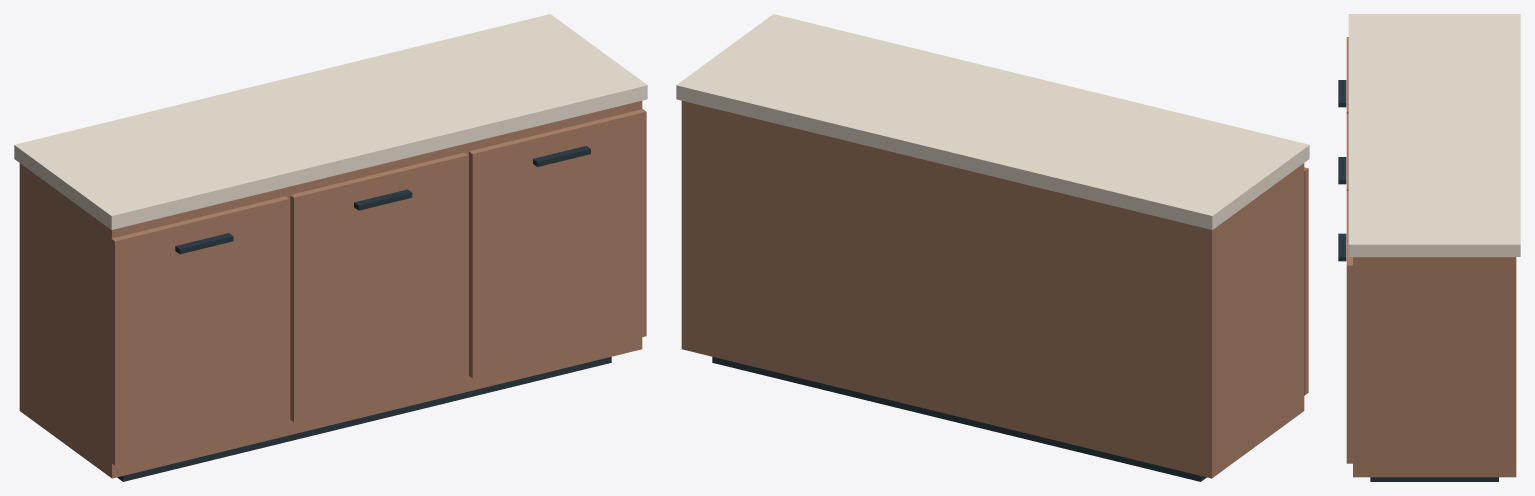
Rendered from kitchen-counter.glb.
The picture shows the model from 3 angles, left to right: view 1: azimuth 30°, elevation 25°; view 2: azimuth 150°, elevation 25°; view 3: azimuth 270°, elevation 25°; orthographic projection. The views are drawn at different scales.
Parts seen in each view (by area): view 1: poc-kitchen-counter-part-80, poc-kitchen-counter-part-81, poc-kitchen-counter-part-85, poc-kitchen-counter-part-83, poc-kitchen-counter-part-79, poc-kitchen-counter-part-87; view 2: poc-kitchen-counter-part-79, poc-kitchen-counter-part-80, poc-kitchen-counter-part-87, poc-kitchen-counter-part-81; view 3: poc-kitchen-counter-part-80, poc-kitchen-counter-part-79, poc-kitchen-counter-part-85, poc-kitchen-counter-part-87, poc-kitchen-counter-part-86, poc-kitchen-counter-part-82, poc-kitchen-counter-part-84, poc-kitchen-counter-part-81, poc-kitchen-counter-part-83.
Part boxes in pixels (left/top/right/bottom): poc-kitchen-counter-part-80: left=14, top=14, right=647, bottom=229; poc-kitchen-counter-part-81: left=111, top=196, right=288, bottom=465; poc-kitchen-counter-part-85: left=469, top=109, right=646, bottom=378; poc-kitchen-counter-part-83: left=290, top=152, right=467, bottom=421; poc-kitchen-counter-part-79: left=19, top=101, right=642, bottom=478; poc-kitchen-counter-part-87: left=117, top=357, right=611, bottom=481; poc-kitchen-counter-part-79: left=681, top=101, right=1304, bottom=478; poc-kitchen-counter-part-80: left=676, top=14, right=1309, bottom=229; poc-kitchen-counter-part-87: left=712, top=357, right=1206, bottom=481; poc-kitchen-counter-part-81: left=1304, top=167, right=1308, bottom=395; poc-kitchen-counter-part-80: left=1348, top=14, right=1520, bottom=256; poc-kitchen-counter-part-79: left=1353, top=257, right=1516, bottom=477; poc-kitchen-counter-part-85: left=1346, top=191, right=1353, bottom=463; poc-kitchen-counter-part-87: left=1370, top=477, right=1498, bottom=481; poc-kitchen-counter-part-86: left=1338, top=233, right=1346, bottom=261; poc-kitchen-counter-part-82: left=1338, top=80, right=1346, bottom=107; poc-kitchen-counter-part-84: left=1338, top=157, right=1346, bottom=184; poc-kitchen-counter-part-81: left=1346, top=37, right=1348, bottom=113; poc-kitchen-counter-part-83: left=1346, top=114, right=1348, bottom=190.
Bounding box in the file's own units: 1.8 × 0.9 × 0.6.
